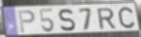5: (38, 8, 56, 34)
7: (78, 7, 94, 31)
C: (117, 6, 136, 30)
P: (17, 10, 36, 34)
R: (96, 7, 118, 31)
S: (58, 8, 77, 33)
